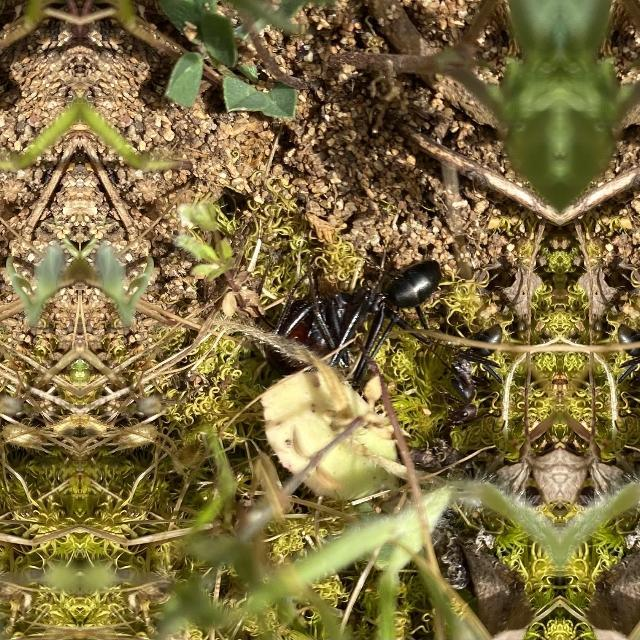Cataglyphis: (258, 222, 458, 388), (433, 310, 521, 448), (596, 310, 640, 448)
